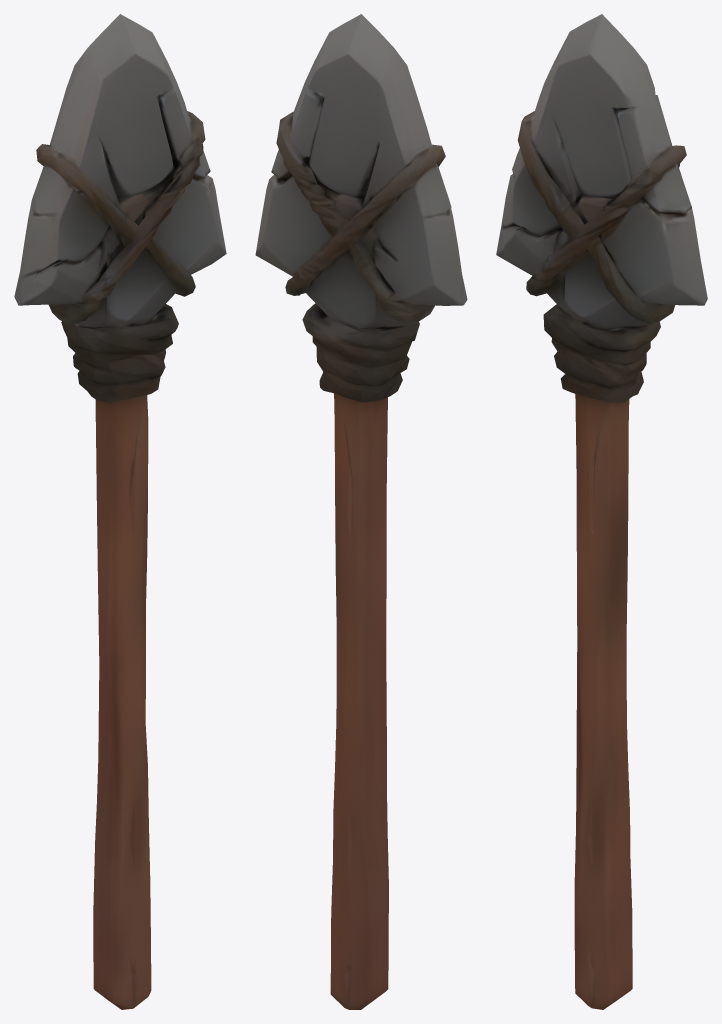
The model's file is base_basic_shaded.fbx.
3 renders of one model, left to right at view 1: azimuth 30°, elevation 25°; view 2: azimuth 150°, elevation 25°; view 3: azimuth 330°, elevation 25°, orthographic.
Parts seen in each view (by area): view 1: model; view 2: model; view 3: model.
Boxes of the visible parts, box(x1,y1,x2,y2) form: model: box(14, 14, 226, 1009); model: box(255, 14, 467, 1009); model: box(496, 14, 707, 1009).
Size of the model in its own units: 38.06 by 175 by 15.46.
